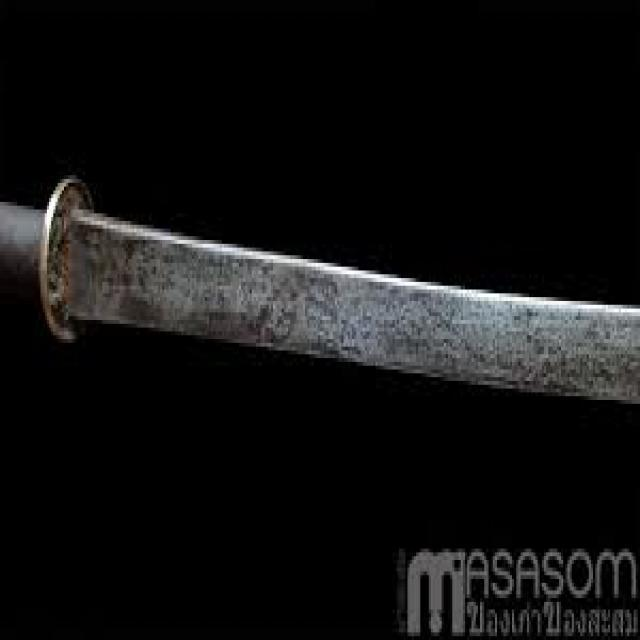long sword: (4, 168, 640, 416)
